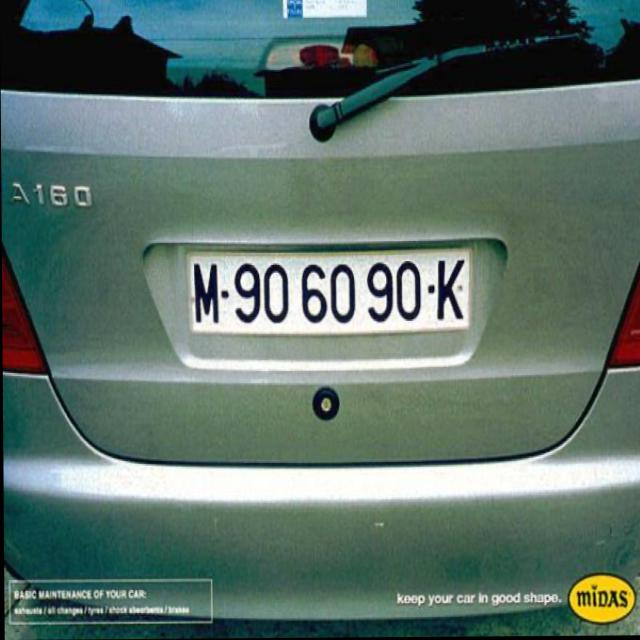licence: (184, 246, 467, 335)
